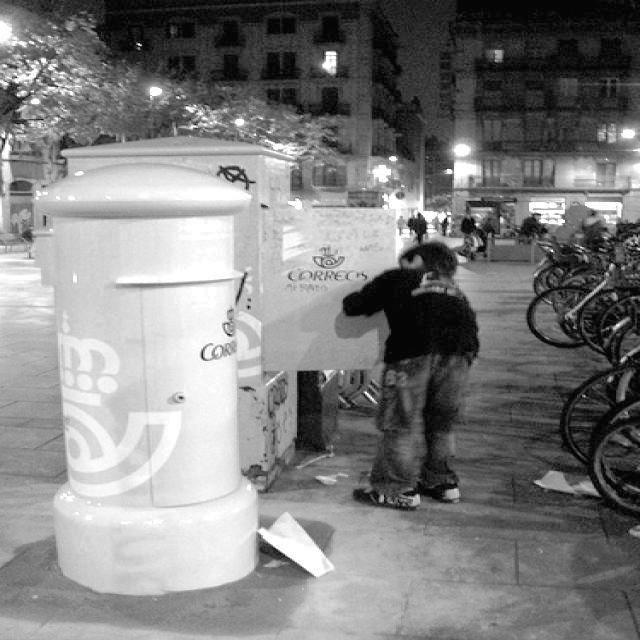Bicycle: (539, 298, 640, 557), (527, 210, 640, 368)
Person: (343, 237, 478, 519)
